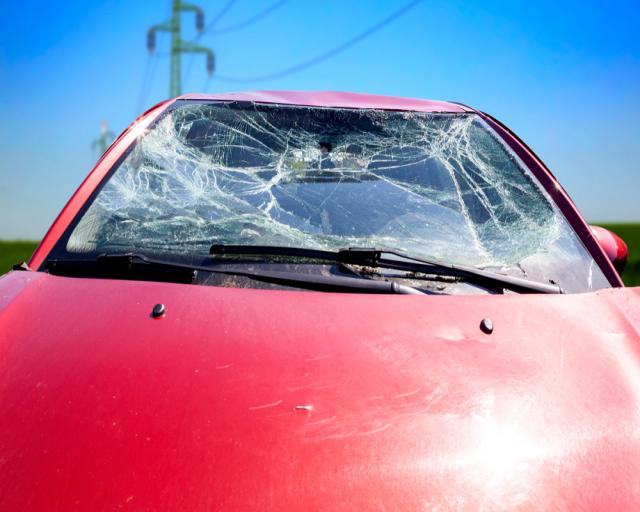dent: (207, 91, 466, 113)
glass shatter: (72, 99, 612, 290)
